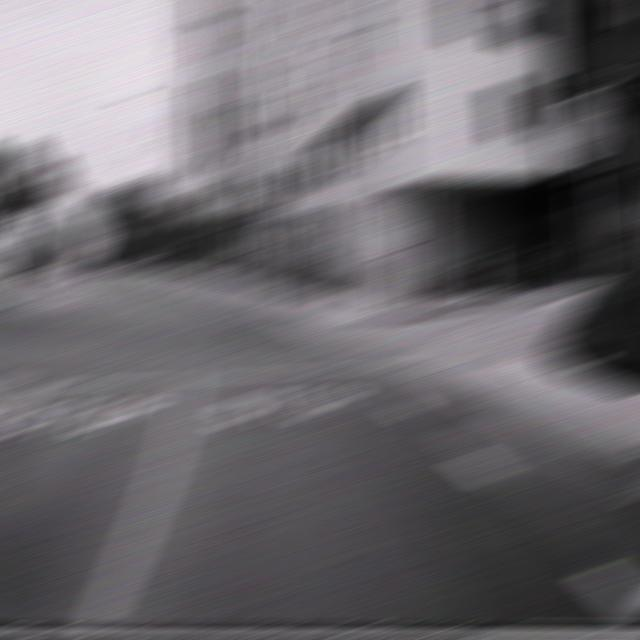stop_sign: (552, 96, 607, 164)
